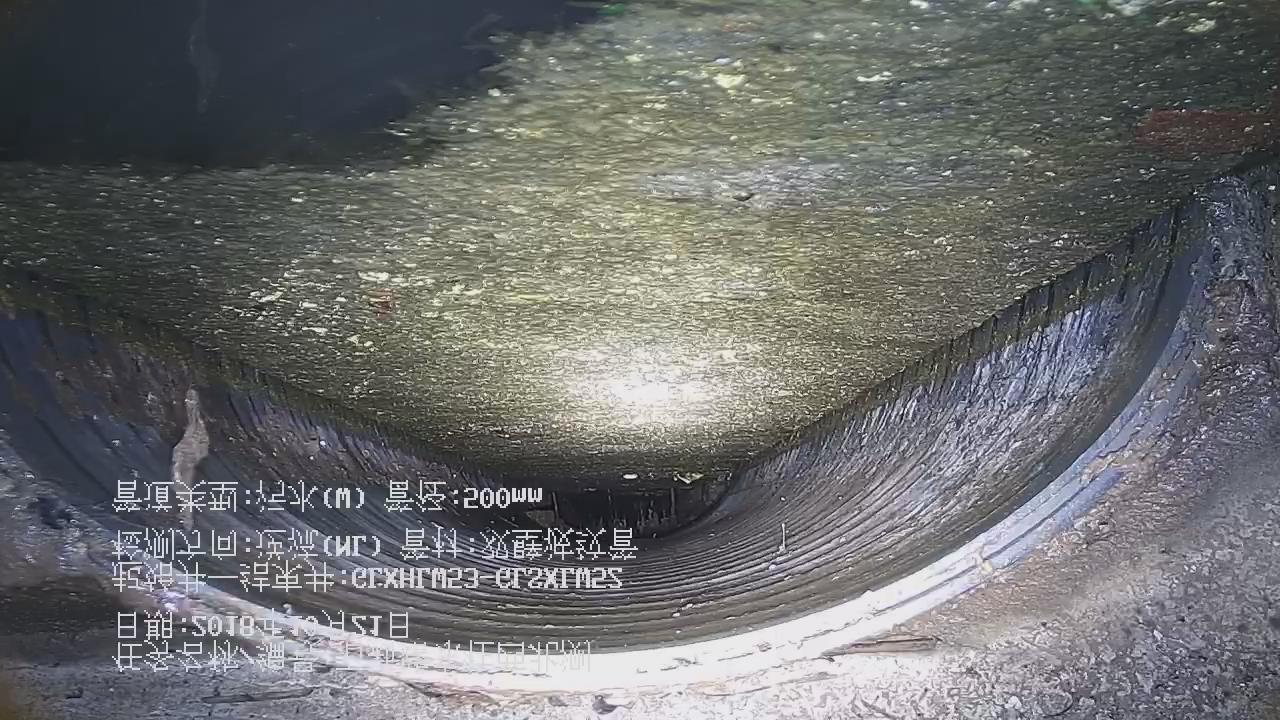FZ: (0, 1, 1279, 490)
